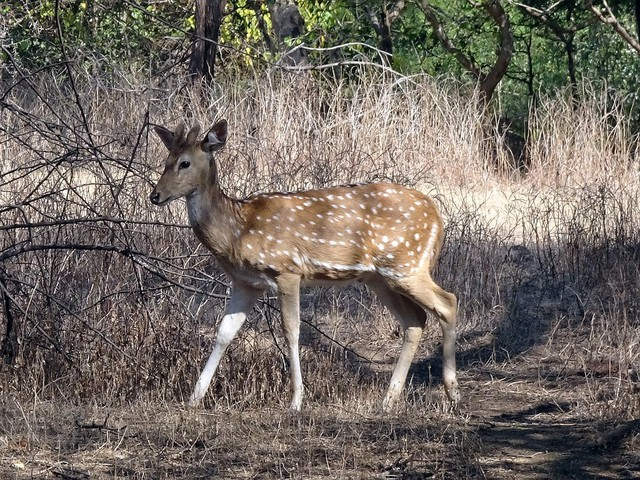deer: (139, 112, 473, 417)
